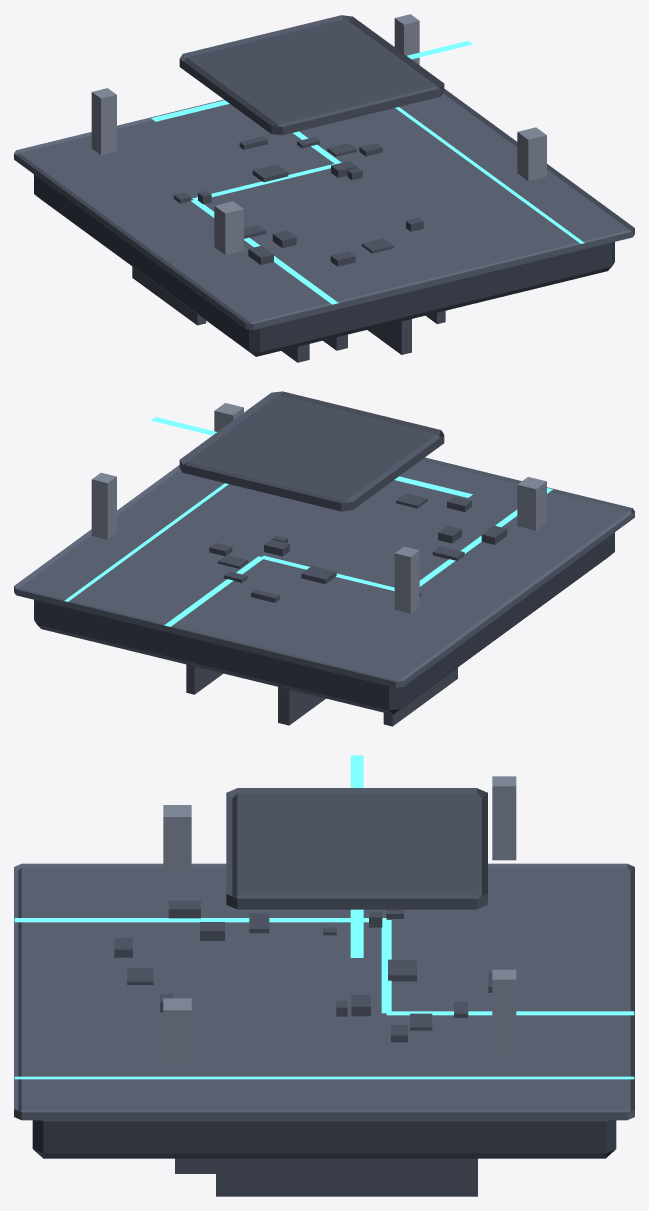
The model's file is platform_lab_base.glb.
The picture shows the model from 3 angles, top to bottom: view 1: azimuth 30°, elevation 25°; view 2: azimuth 150°, elevation 25°; view 3: azimuth 270°, elevation 25°; orthographic projection. The views are drawn at different scales.
Visible parts, largest first — view 1: platform_lab_base; view 2: platform_lab_base; view 3: platform_lab_base.
Part boxes in pixels (x1,y1,x2,y2): platform_lab_base: (14, 14, 634, 362); platform_lab_base: (14, 391, 634, 726); platform_lab_base: (14, 755, 634, 1196).
Bounding box in the file's own units: 5.4 × 3.15 × 5.7.
